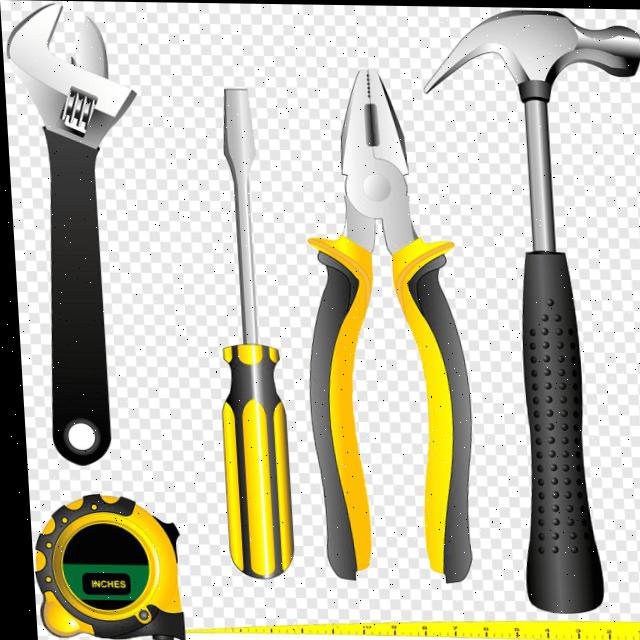Screwdriver: (217, 88, 287, 578)
